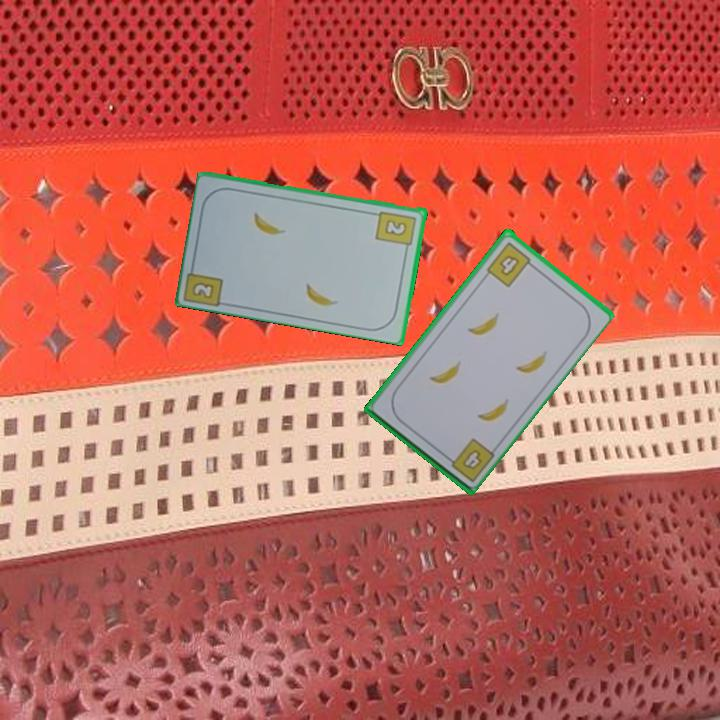2b: (373, 207, 419, 254), (189, 278, 218, 302)
4b: (483, 238, 538, 290), (458, 445, 485, 472)
